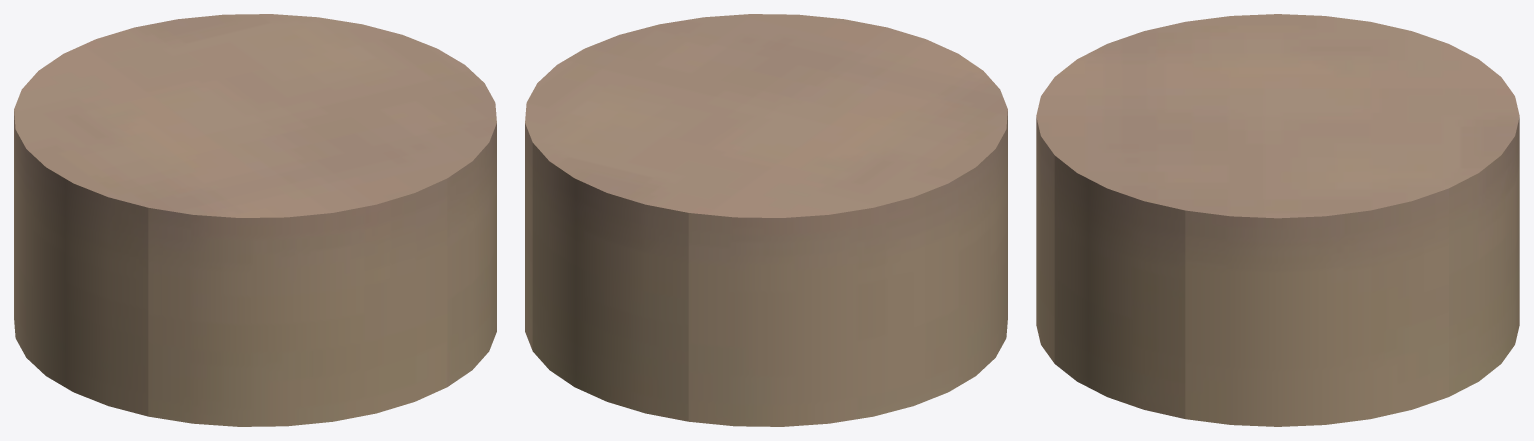
Rendered from gauge_needle__needle_hub.glb.
The picture shows the model from 3 angles, left to right: view 1: azimuth 30°, elevation 25°; view 2: azimuth 150°, elevation 25°; view 3: azimuth 270°, elevation 25°; orthographic projection.
Visible parts, largest first — view 1: geometry_0; view 2: geometry_0; view 3: geometry_0.
Boxes of the visible parts, x1,y1,x2,y2 form: geometry_0: (14, 14, 496, 426); geometry_0: (525, 14, 1007, 426); geometry_0: (1036, 14, 1519, 426).
Size of the model in its own units: 0.0084 by 0.004 by 0.0084.
1 material, 1 textured.
